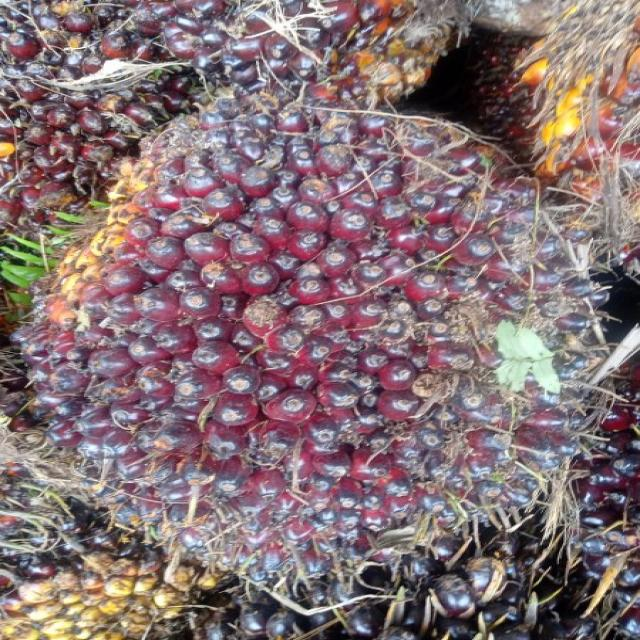fraksi 1: (12, 35, 589, 629)
